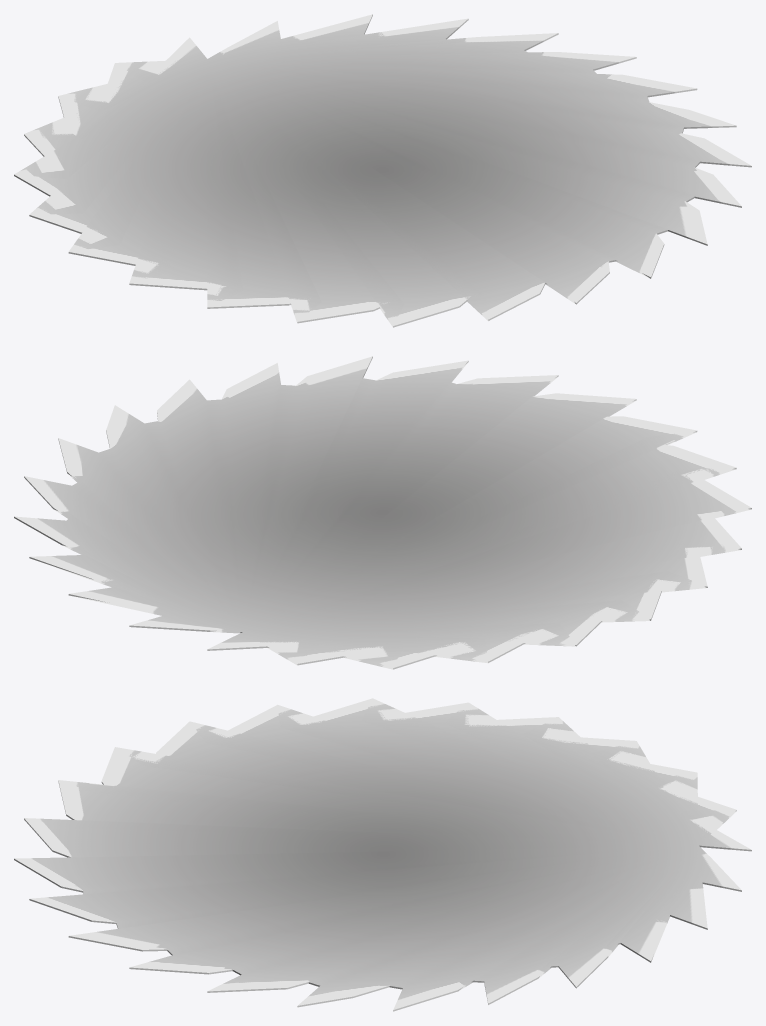
File: rangcua5.fbx
The picture shows the model from 3 angles, top to bottom: view 1: azimuth 30°, elevation 25°; view 2: azimuth 150°, elevation 25°; view 3: azimuth 270°, elevation 25°; orthographic projection.
Parts seen in each view (by area): view 1: Circle; view 2: Circle; view 3: Circle.
Part boxes in pixels (left/top/right/bottom): Circle: left=14, top=14, right=751, bottom=327; Circle: left=14, top=356, right=751, bottom=669; Circle: left=14, top=698, right=751, bottom=1011.
Bounding box in the file's own units: 88.89 × 0.2036 × 88.89.
1 material, 1 textured.
